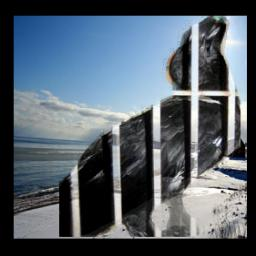Crow: (60, 16, 241, 237)
